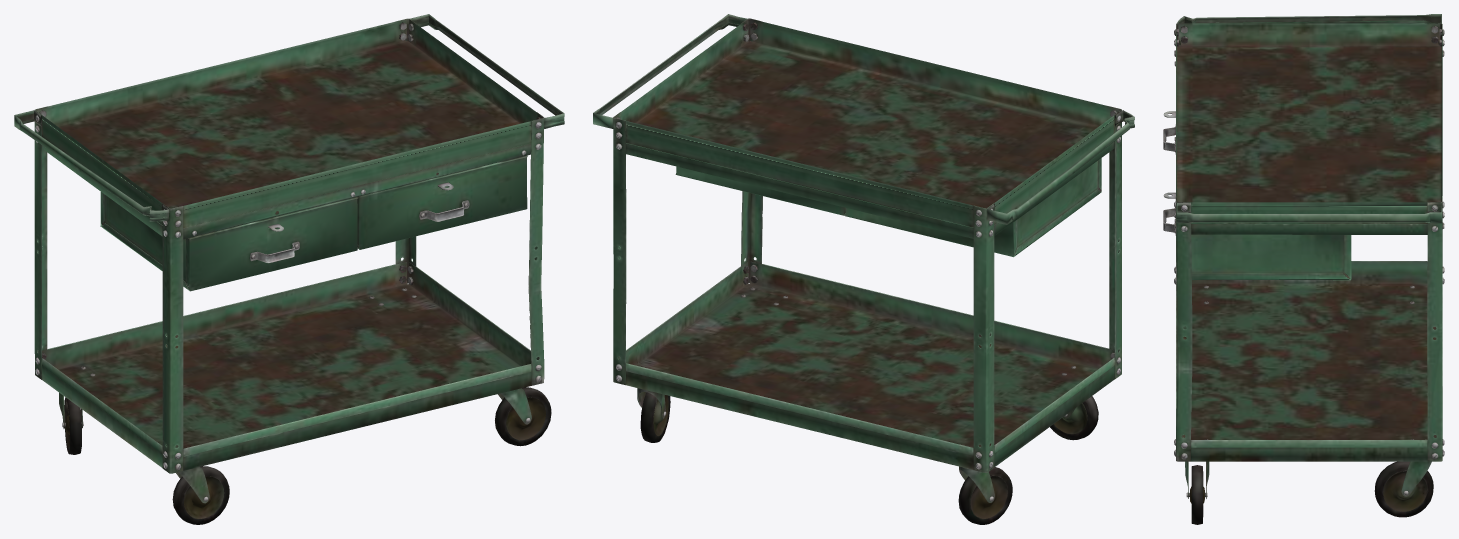
Rendered from tool_cart.glb.
3 views of the same model, side by side, from view 1: azimuth 30°, elevation 25°; view 2: azimuth 150°, elevation 25°; view 3: azimuth 270°, elevation 25° (orthographic). The views are drawn at different scales.
Visible parts, largest first — view 1: tool_cart; view 2: tool_cart; view 3: tool_cart.
Boxes of the visible parts, x1,y1,x2,y2 form: tool_cart: (14,14,564,524); tool_cart: (593,14,1134,524); tool_cart: (1163,14,1444,524).
Bounding box in the file's own units: 1.27 × 0.9653 × 0.7536.
Materials: 1 (1 with a texture image).
